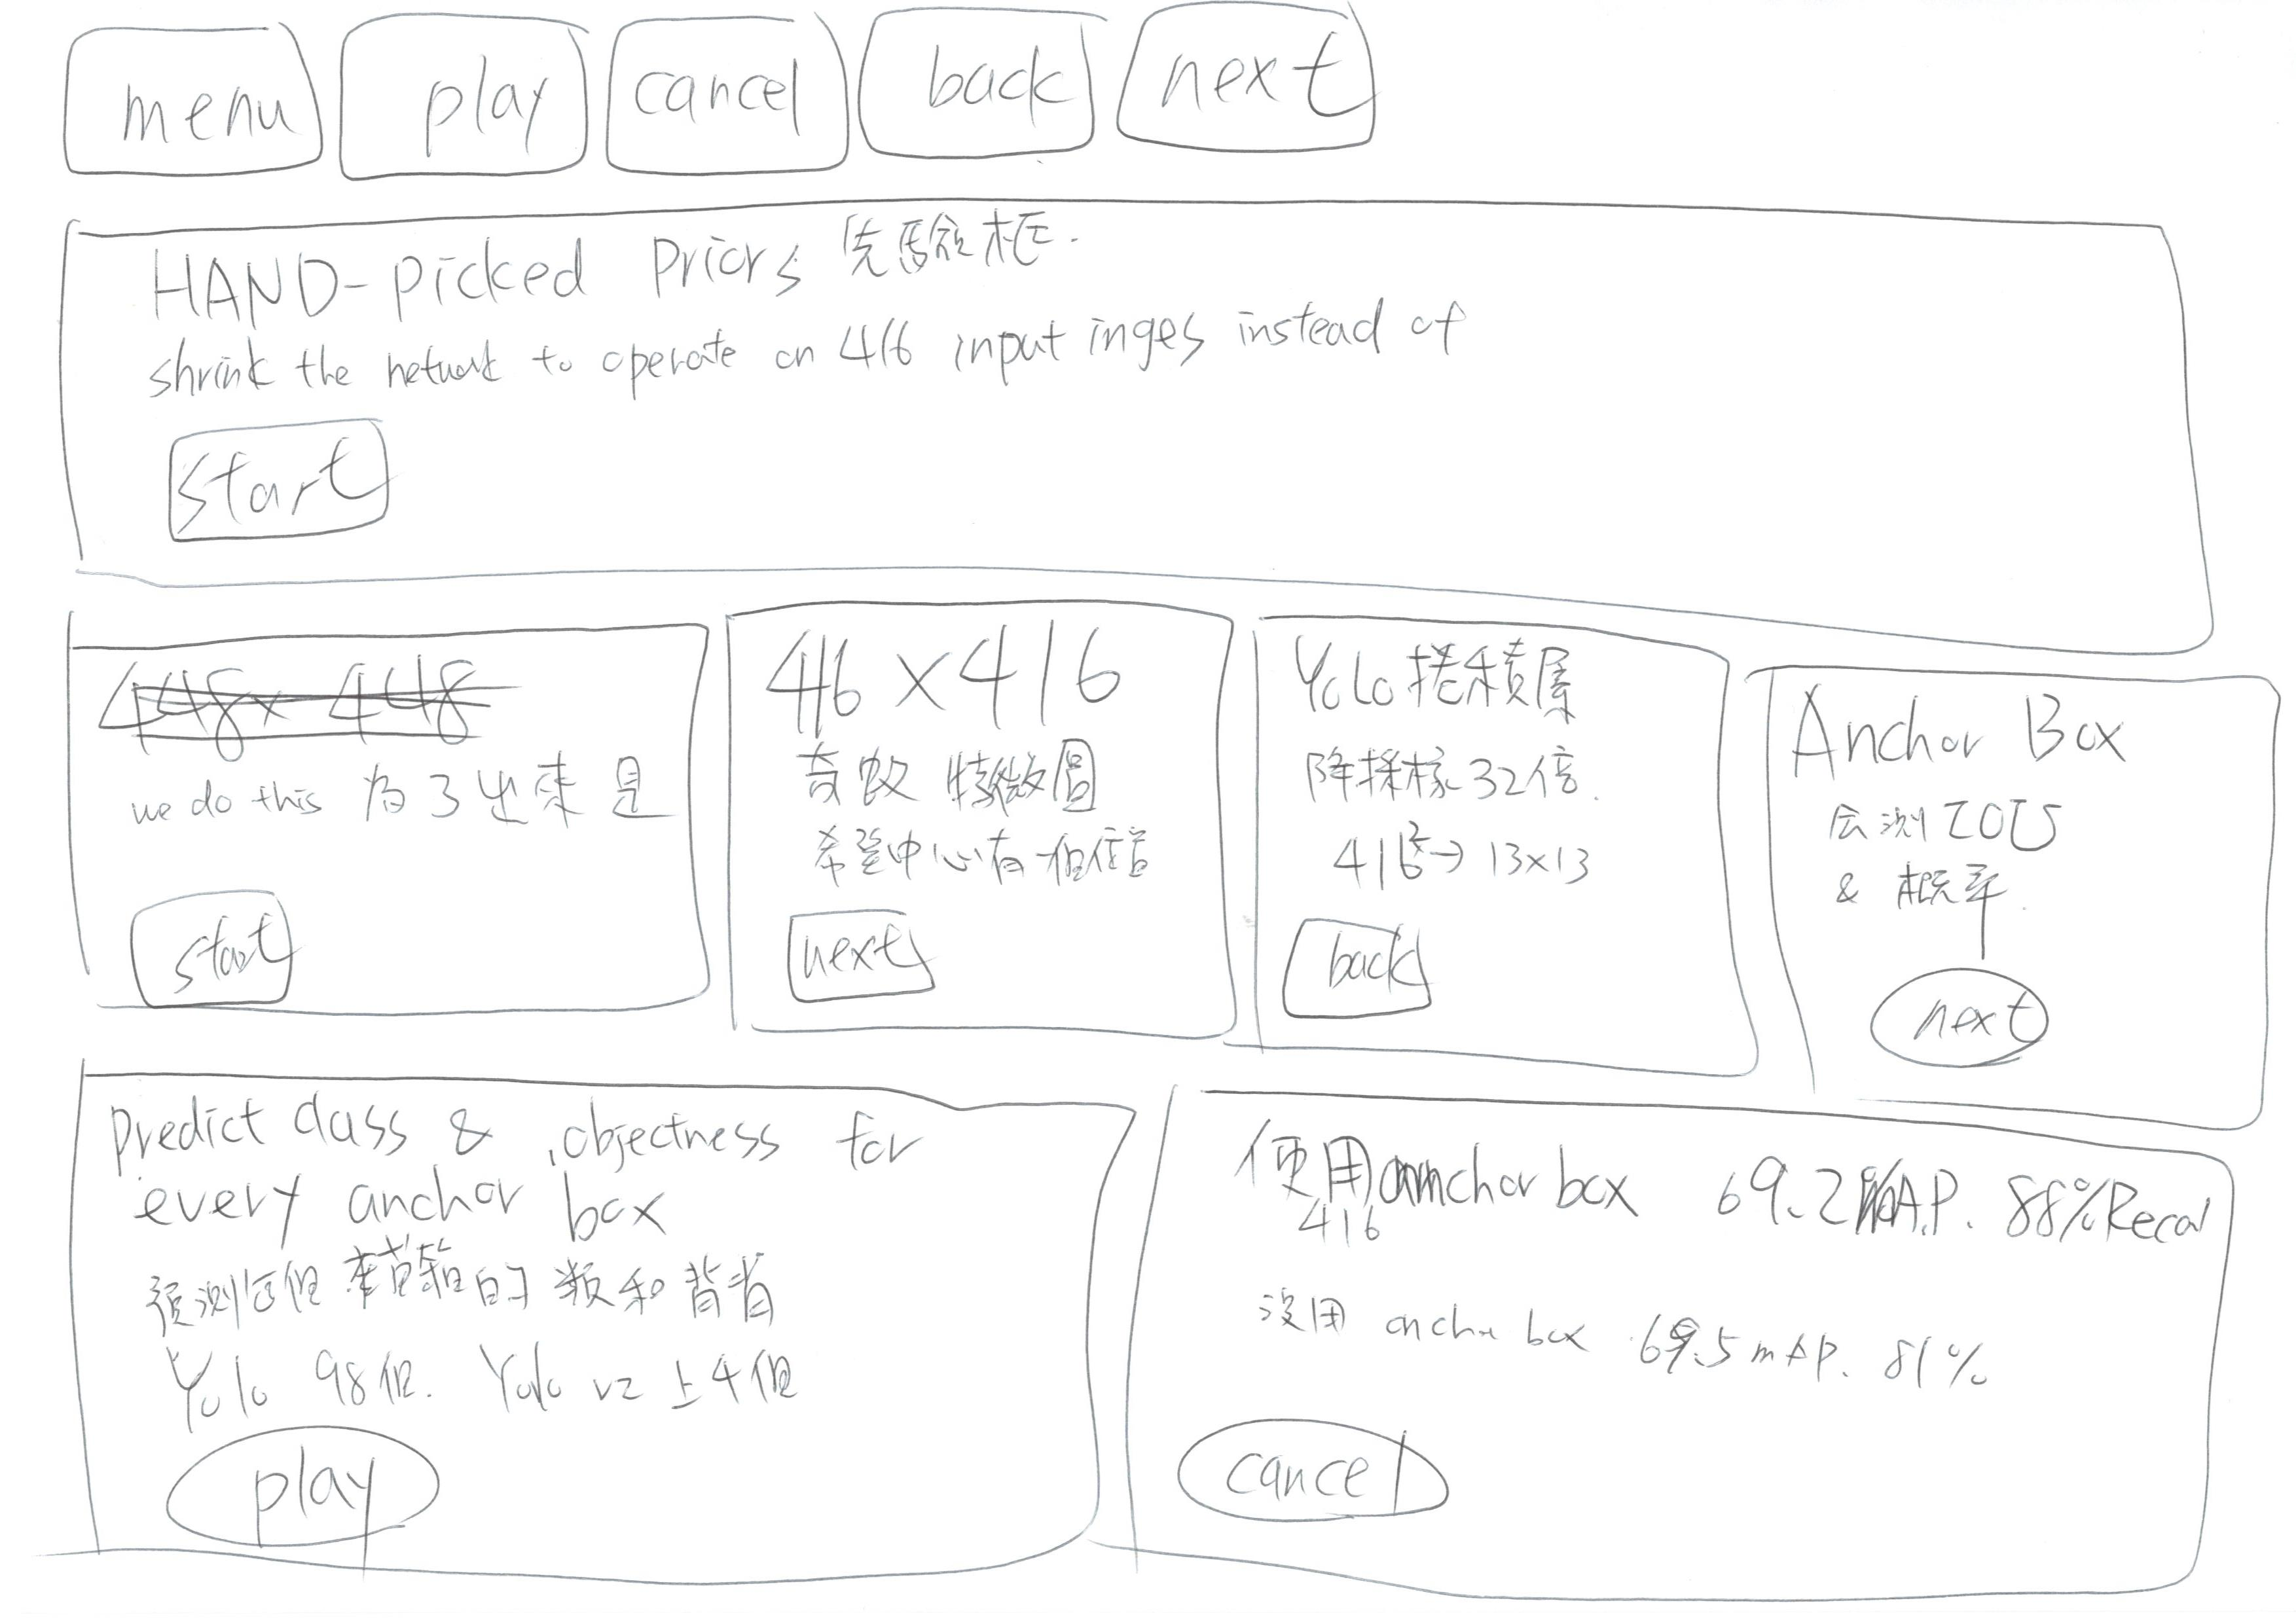back: (1239, 905, 1584, 1065), (853, 0, 1134, 190)
cancel: (582, 0, 856, 206), (1164, 1406, 1500, 1550)
double: (1095, 1069, 2296, 1624), (28, 1033, 1137, 1624)
menu: (26, 11, 327, 202)
next: (1102, 0, 1412, 190), (1848, 954, 2097, 1081), (751, 889, 955, 1016)
play: (309, 0, 614, 202), (153, 1406, 450, 1584)
quadruple: (18, 568, 737, 1065), (700, 573, 1262, 1100), (1220, 582, 1783, 1109), (1733, 629, 2296, 1155)
row: (40, 557, 2296, 1137), (40, 1044, 2296, 1624), (40, 179, 2296, 656), (5, 0, 2261, 214)
single: (44, 172, 2296, 692)
small-title: (1234, 1116, 2201, 1287), (118, 213, 1062, 327), (116, 1083, 941, 1202), (754, 598, 1132, 733), (1788, 680, 2138, 789), (1273, 634, 1582, 731), (135, 664, 496, 743)
start: (130, 401, 464, 568), (102, 861, 327, 1053)
text: (111, 1211, 833, 1439), (1217, 1281, 2039, 1411), (149, 316, 1475, 388), (772, 728, 1153, 889), (1816, 773, 2111, 960), (1275, 740, 1610, 903), (118, 747, 642, 849)
